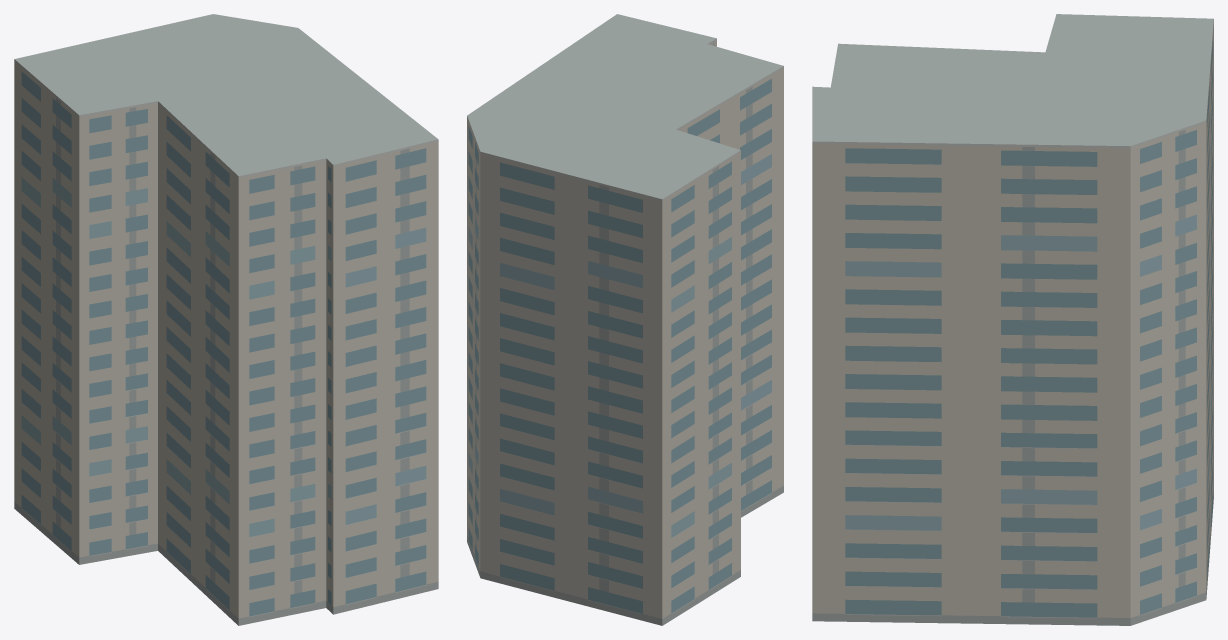
Rendered from residential-ef93314e-2ef7-4c6b-be55-04644a0321e7.glb.
The picture shows the model from 3 angles, left to right: view 1: azimuth 30°, elevation 25°; view 2: azimuth 150°, elevation 25°; view 3: azimuth 270°, elevation 25°; orthographic projection. The views are drawn at different scales.
Visible parts, largest first — view 1: residential-ef93314e-2ef7-4c6b-be55-04644a0321e7.tmp; view 2: residential-ef93314e-2ef7-4c6b-be55-04644a0321e7.tmp; view 3: residential-ef93314e-2ef7-4c6b-be55-04644a0321e7.tmp.
Part boxes in pixels (bbox=[...]): residential-ef93314e-2ef7-4c6b-be55-04644a0321e7.tmp: bbox=[14, 14, 438, 625]; residential-ef93314e-2ef7-4c6b-be55-04644a0321e7.tmp: bbox=[467, 14, 783, 625]; residential-ef93314e-2ef7-4c6b-be55-04644a0321e7.tmp: bbox=[812, 14, 1213, 625].
Bounding box in the file's own units: 30.14 × 51 × 38.71.
